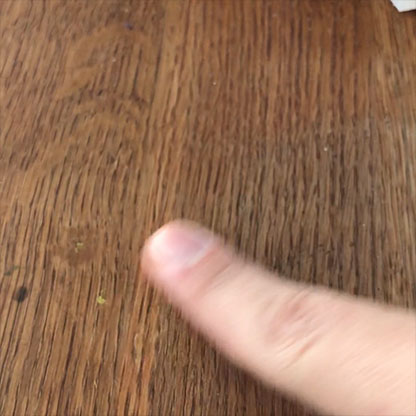fingertip: (131, 210, 234, 296)
